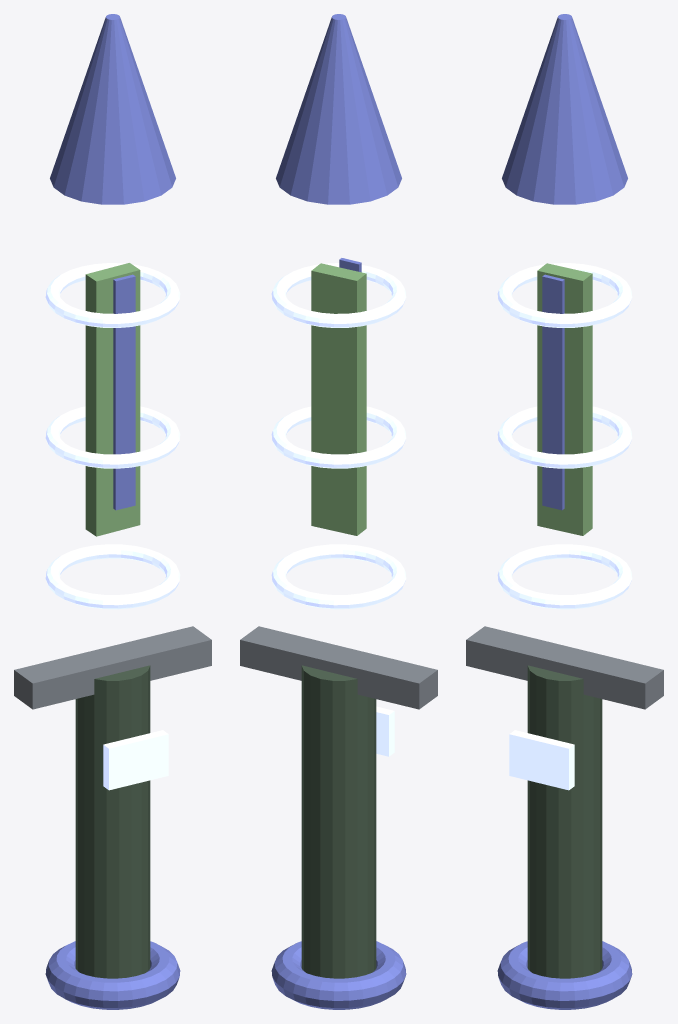
File: asset.glb
3 renders of one model, left to right at view 1: azimuth 30°, elevation 25°; view 2: azimuth 150°, elevation 25°; view 3: azimuth 330°, elevation 25°, orthographic.
Parts seen in each view (by area): view 1: Grip, BladeTip, BladeCore, Guard, Pommel, BladeEdge, EnergyBand_1.18, EnergyBand_2.26, EnergyBand_1.72, IdentityPlate; view 2: Grip, BladeTip, BladeCore, Guard, Pommel, EnergyBand_1.18, EnergyBand_2.26, EnergyBand_1.72, IdentityPlate; view 3: Grip, BladeTip, BladeCore, Guard, Pommel, BladeEdge, EnergyBand_1.18, EnergyBand_2.26, EnergyBand_1.72, IdentityPlate.
Part boxes in pixels (left/top/right/bottom): Grip: left=75, top=665, right=150, bottom=978; BladeTip: left=50, top=14, right=175, bottom=204; BladeCore: left=85, top=263, right=140, bottom=536; Guard: left=14, top=626, right=211, bottom=709; Pommel: left=45, top=941, right=180, bottom=1009; BladeEdge: left=113, top=274, right=135, bottom=510; EnergyBand_1.18: left=45, top=544, right=180, bottom=609; EnergyBand_2.26: left=45, top=263, right=180, bottom=327; EnergyBand_1.72: left=45, top=406, right=180, bottom=468; IdentityPlate: left=103, top=730, right=168, bottom=790; Grip: left=301, top=665, right=376, bottom=978; BladeTip: left=276, top=14, right=401, bottom=204; BladeCore: left=311, top=263, right=366, bottom=535; Guard: left=240, top=626, right=437, bottom=709; Pommel: left=271, top=941, right=406, bottom=1009; EnergyBand_1.18: left=271, top=544, right=406, bottom=609; EnergyBand_2.26: left=271, top=263, right=406, bottom=327; EnergyBand_1.72: left=271, top=406, right=406, bottom=468; IdentityPlate: left=376, top=706, right=394, bottom=756; Grip: left=527, top=665, right=602, bottom=978; BladeTip: left=502, top=14, right=627, bottom=204; BladeCore: left=537, top=263, right=592, bottom=535; Guard: left=466, top=626, right=663, bottom=709; Pommel: left=497, top=941, right=632, bottom=1009; BladeEdge: left=542, top=274, right=564, bottom=510; EnergyBand_1.18: left=497, top=544, right=632, bottom=609; EnergyBand_2.26: left=497, top=263, right=632, bottom=327; EnergyBand_1.72: left=497, top=406, right=632, bottom=468; IdentityPlate: left=509, top=730, right=574, bottom=790.
Size of the model in its own units: 0.72 by 3.72 by 0.47.
